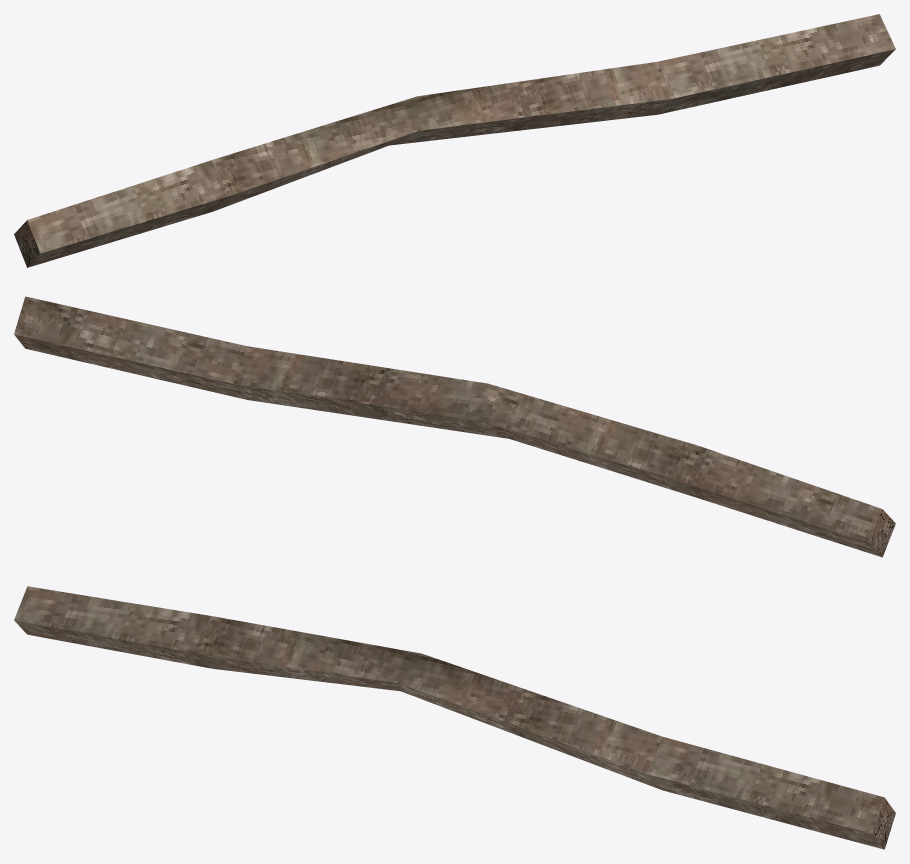
Rendered from wooden_fence_beam.glb.
3 views of the same model, one above another, from view 1: azimuth 30°, elevation 25°; view 2: azimuth 150°, elevation 25°; view 3: azimuth 330°, elevation 25° (orthographic).
Parts seen in each view (by area): view 1: wooden_fence_beam; view 2: wooden_fence_beam; view 3: wooden_fence_beam.
Boxes of the visible parts, bbox=[...] form: wooden_fence_beam: bbox=[14, 14, 895, 267]; wooden_fence_beam: bbox=[14, 296, 895, 557]; wooden_fence_beam: bbox=[14, 586, 895, 849].
Bounding box in the file's own units: 2.5 × 0.2231 × 0.1601.
Materials: 1 (1 with a texture image).
